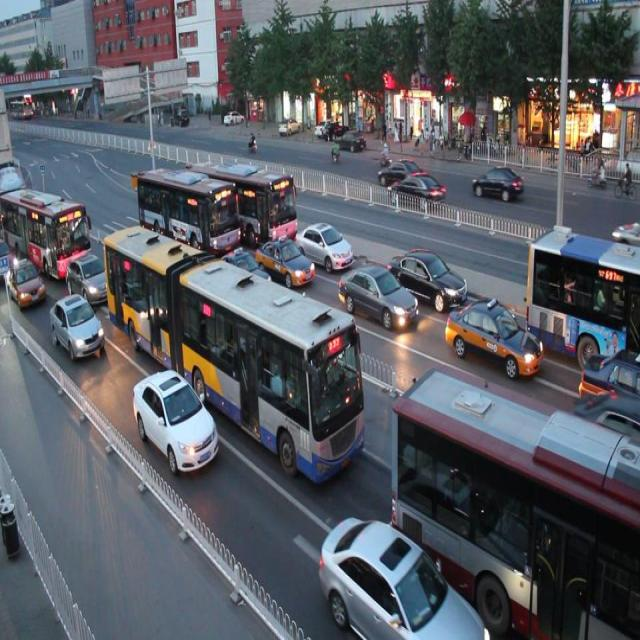car: (320, 513, 488, 640), (130, 369, 220, 471), (446, 294, 544, 382), (569, 387, 640, 503), (337, 258, 416, 331), (390, 243, 468, 309), (49, 290, 105, 363), (253, 230, 314, 289), (294, 214, 352, 273), (212, 245, 272, 302), (580, 346, 640, 397), (64, 251, 116, 306), (0, 250, 42, 307)
van: (102, 218, 366, 482), (392, 362, 640, 640), (524, 225, 640, 360), (136, 160, 240, 262), (191, 153, 298, 248), (1, 182, 90, 272)
